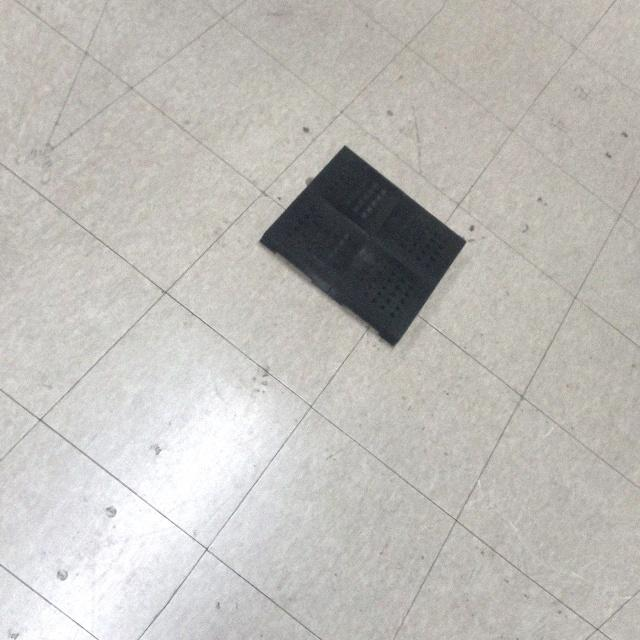pallet: (251, 132, 481, 354)
